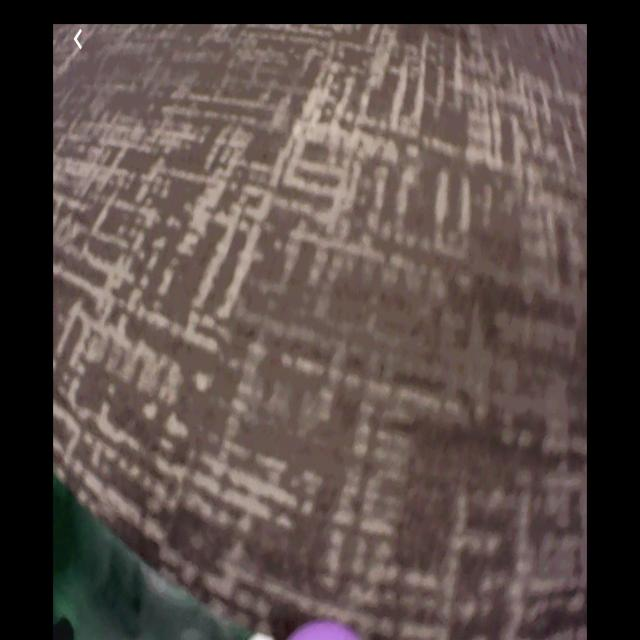ball: (290, 619, 367, 640)
